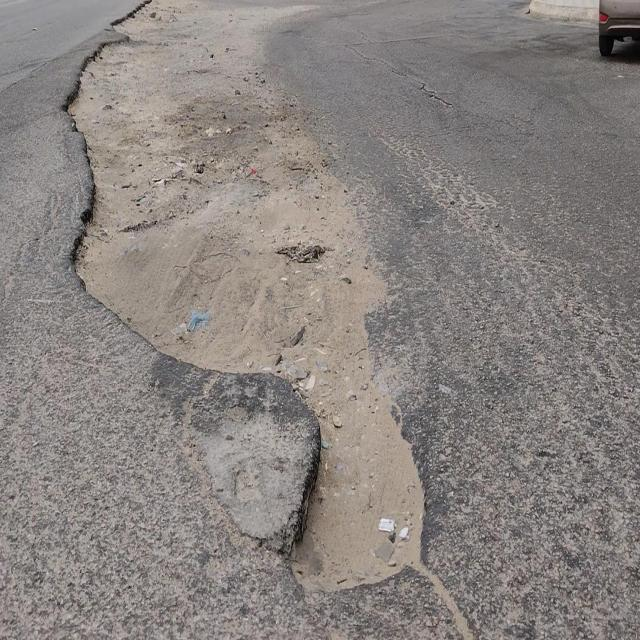Pothole: (282, 400, 429, 598), (70, 194, 159, 332), (60, 79, 102, 142), (94, 38, 132, 68)
